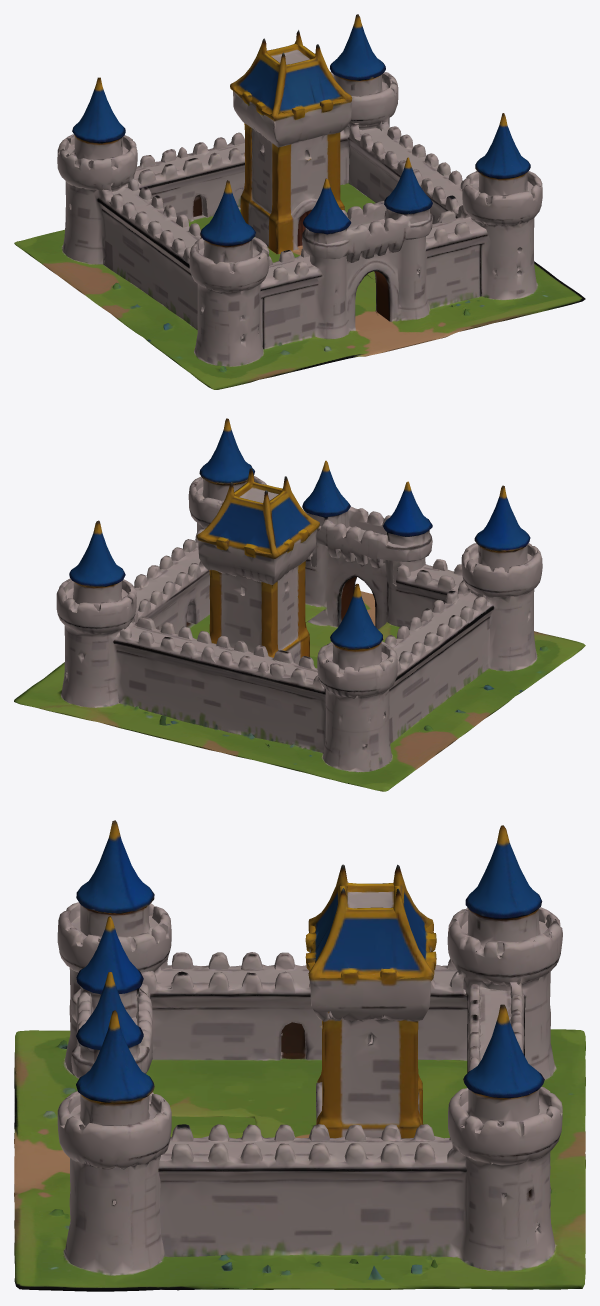
Rendered from crownkeep.glb.
3 views of the same model, one above another, from view 1: azimuth 30°, elevation 25°; view 2: azimuth 150°, elevation 25°; view 3: azimuth 270°, elevation 25° (orthographic). The views are drawn at different scales.
Parts seen in each view (by area): view 1: world; view 2: world; view 3: world.
Boxes of the visible parts, bbox=[...] form: world: bbox=[14, 14, 585, 389]; world: bbox=[14, 418, 585, 791]; world: bbox=[14, 820, 585, 1291].
Size of the model in its own units: 1 by 0.5496 by 0.9398.
Materials: 1 (1 with a texture image).
